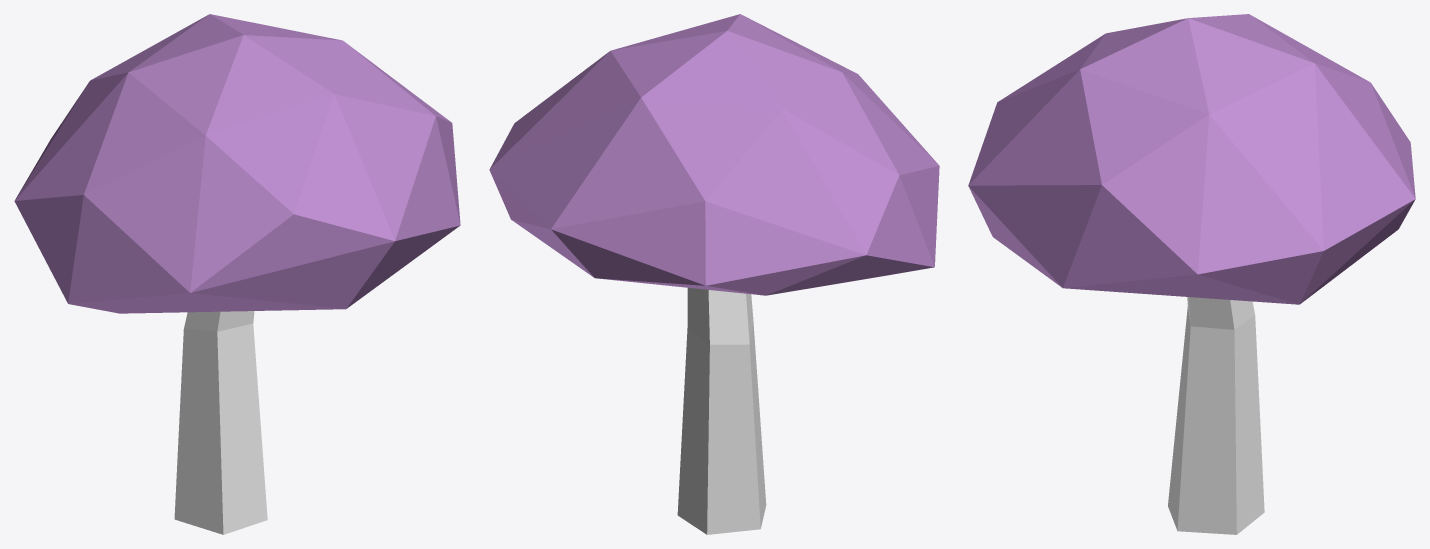
The model's file is Mushroom_k_01.fbx.
The picture shows the model from 3 angles, left to right: view 1: azimuth 30°, elevation 25°; view 2: azimuth 150°, elevation 25°; view 3: azimuth 270°, elevation 25°; orthographic projection. The views are drawn at different scales.
Parts seen in each view (by area): view 1: Mushroom_k_01; view 2: Mushroom_k_01; view 3: Mushroom_k_01.
Boxes of the visible parts, x1,y1,x2,y2 form: Mushroom_k_01: (14, 14, 460, 534); Mushroom_k_01: (489, 14, 939, 534); Mushroom_k_01: (968, 14, 1415, 534).
Size of the model in its own units: 31.8 by 36.26 by 29.2.
